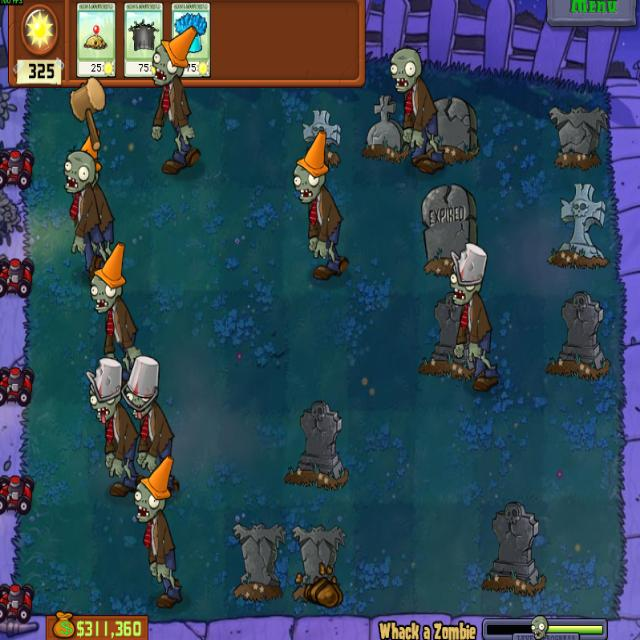buckethead: (121, 354, 161, 422)
conehead: (149, 28, 197, 90), (290, 130, 330, 204), (130, 455, 172, 523), (89, 241, 128, 314), (78, 126, 104, 189)
damaged_buckethead: (85, 353, 124, 423), (447, 242, 489, 304)
grave: (480, 499, 547, 594), (542, 291, 612, 378), (418, 184, 479, 281), (284, 398, 348, 489), (546, 180, 611, 269), (417, 292, 478, 382), (229, 518, 286, 600), (545, 102, 609, 171), (416, 92, 479, 162), (292, 522, 348, 599), (360, 94, 409, 161), (299, 105, 342, 167)
gravebuster: (123, 3, 164, 79)
zombie: (387, 46, 423, 95), (60, 152, 94, 196)
